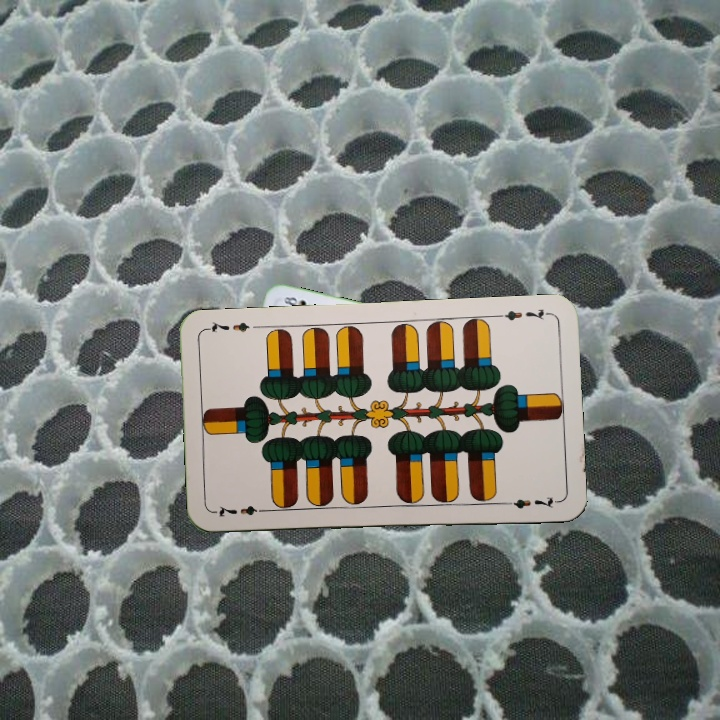E7: (212, 501, 271, 520), (493, 304, 552, 323)
